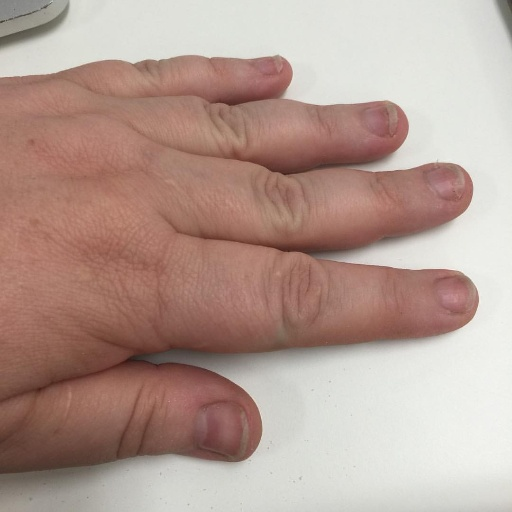hand: (0, 52, 475, 475)
